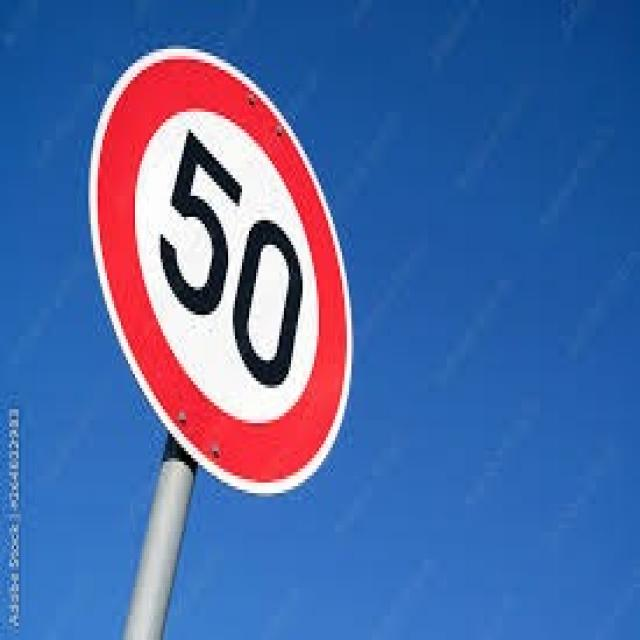speed_limit_50: (84, 38, 370, 518)
